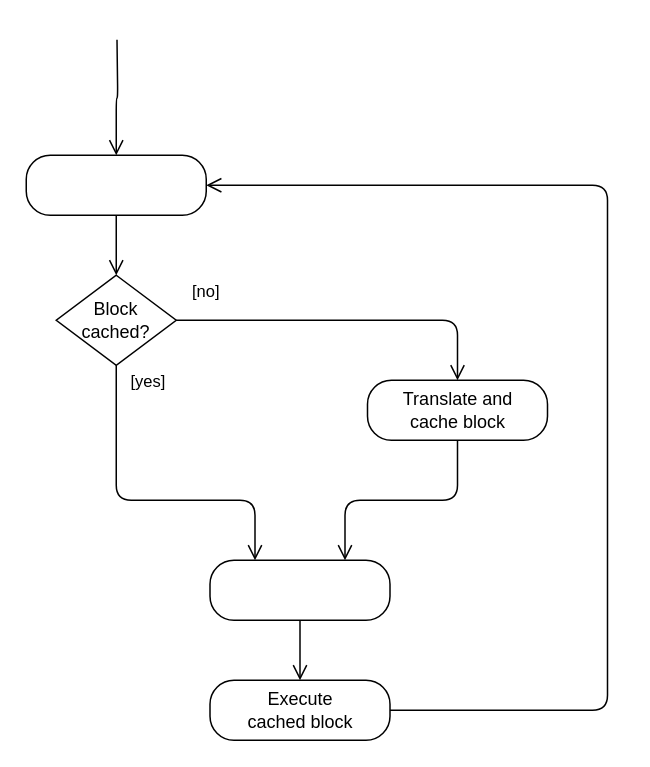
The diagram is 650 pixels wide and 767 high, and some of its shapes have lost their labels. Each missing label, with the box of its shape:
Get next program counter value: (25, 154, 206, 215)
Retrieve block from cache: (208, 559, 390, 620)
